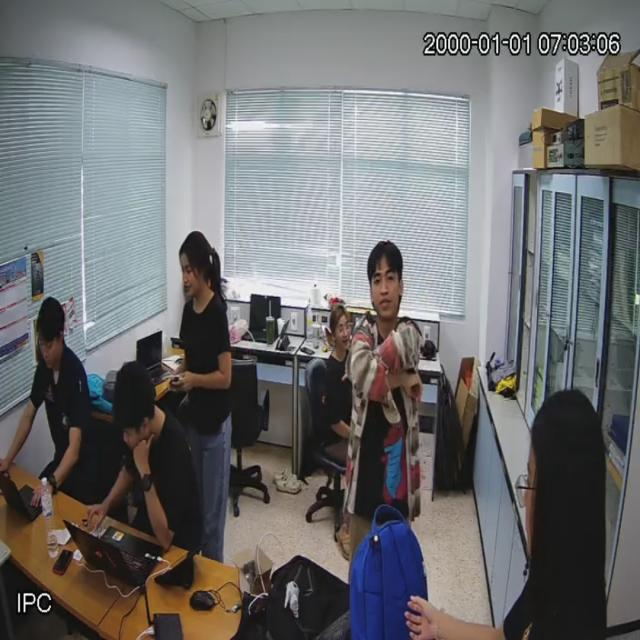normal: (350, 229, 428, 582), (103, 361, 213, 565), (174, 231, 236, 573), (21, 283, 102, 512)
